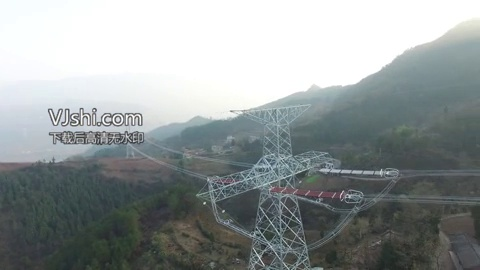tower_body: (195, 99, 334, 270)
tower_foot: (247, 237, 311, 270)
tower_head: (226, 103, 313, 126)
